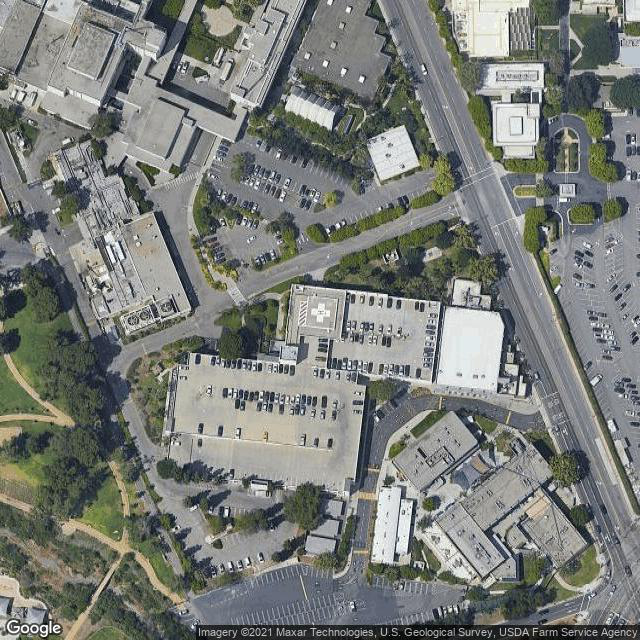Helipad: (304, 290, 338, 330)
